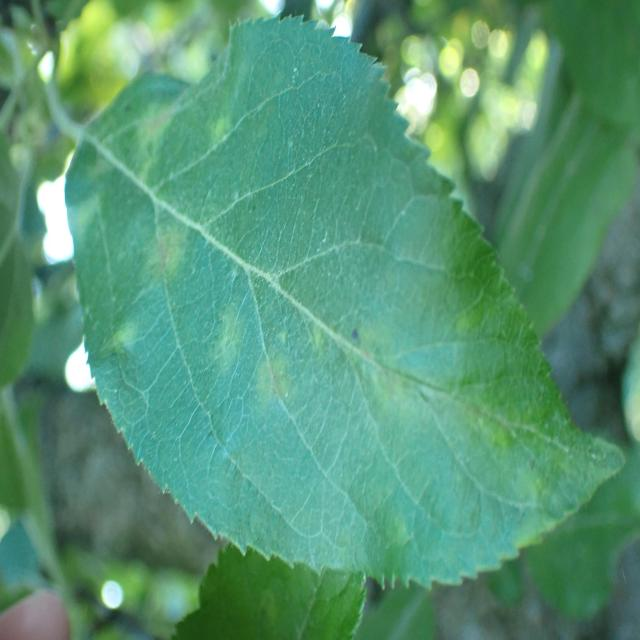scab: (86, 68, 590, 546)
